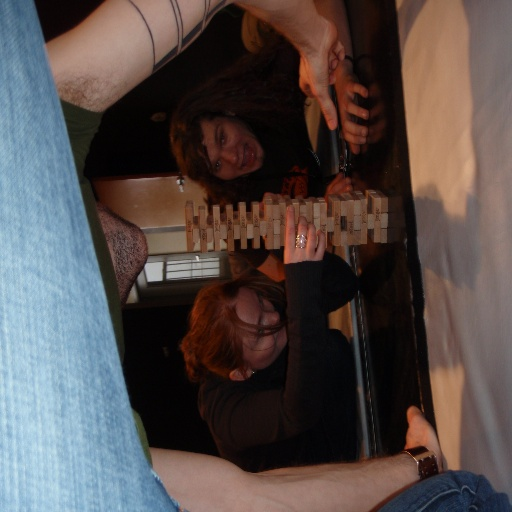hand: (295, 20, 346, 132), (332, 74, 368, 157), (281, 202, 327, 264), (404, 404, 442, 475), (327, 172, 352, 198)
